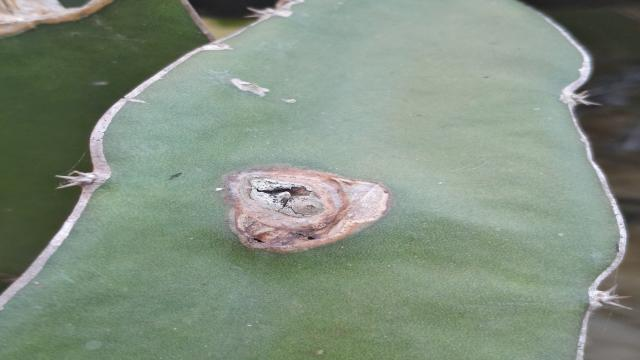stemcanker: (213, 163, 393, 253)
